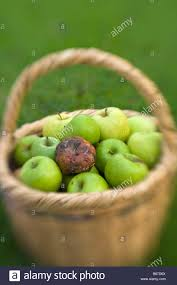damaged_apple: (102, 152, 155, 192), (57, 134, 98, 172)
